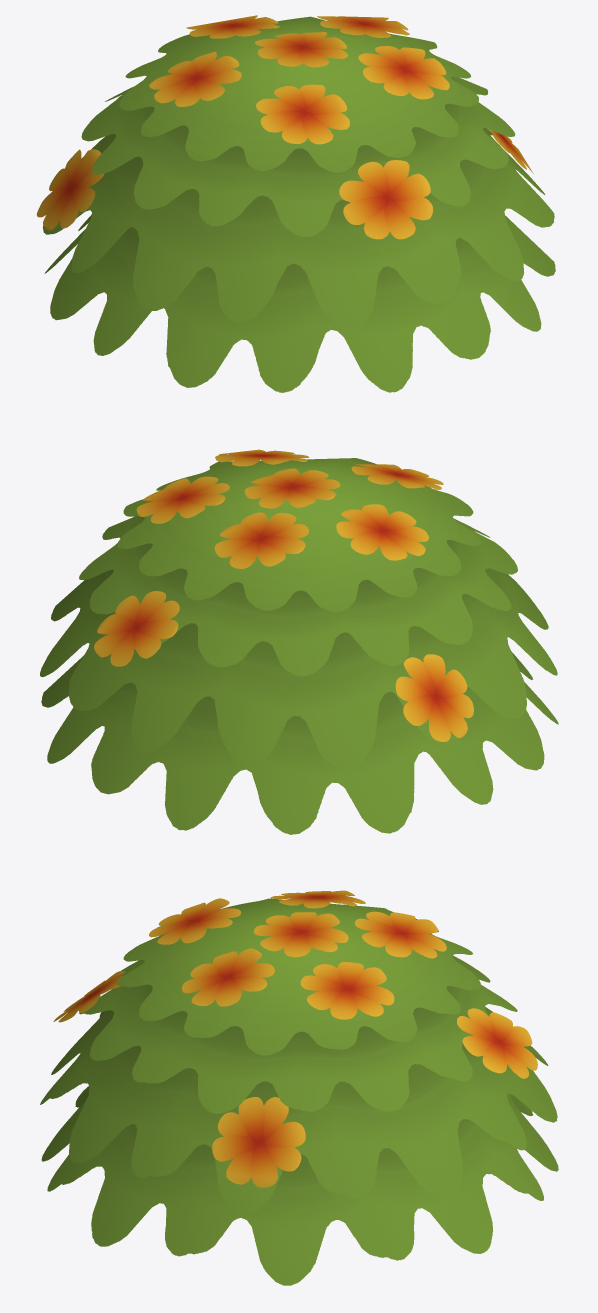
The model's file is plant_2.fbx.
3 views of the same model, one above another, from view 1: azimuth 30°, elevation 25°; view 2: azimuth 150°, elevation 25°; view 3: azimuth 270°, elevation 25° (orthographic).
Parts seen in each view (by area): view 1: Plant_2; view 2: Plant_2; view 3: Plant_2.
Boxes of the visible parts, bbox=[...] form: Plant_2: bbox=[36, 15, 555, 392]; Plant_2: bbox=[40, 449, 558, 834]; Plant_2: bbox=[40, 890, 558, 1285].
Size of the model in its own units: 212 by 105 by 212.
